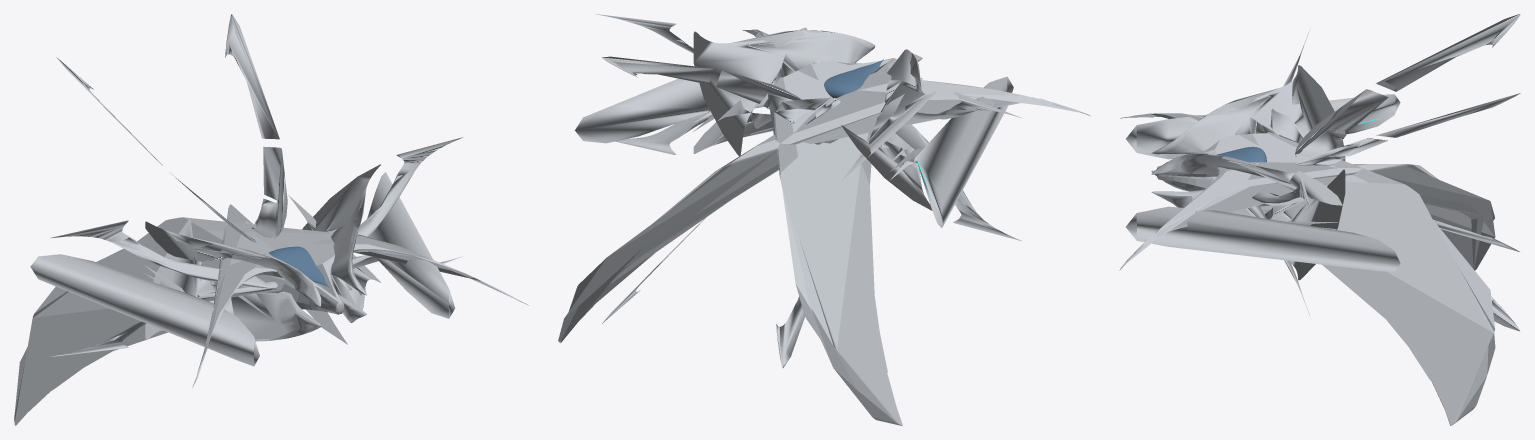
The model's file is Enemy010.glb.
The picture shows the model from 3 angles, left to right: view 1: azimuth 30°, elevation 25°; view 2: azimuth 150°, elevation 25°; view 3: azimuth 270°, elevation 25°; orthographic projection. The views are drawn at different scales.
Visible parts, largest first — view 1: assembly_fuselage, assembly_enginepod0_r, assembly_wing_r, assembly_subwing_r, assembly_tail_r, assembly_canopy; view 2: assembly_fuselage, assembly_wing_r, assembly_enginepod0_r, assembly_tail_r, assembly_subwing_r, assembly_canopy; view 3: assembly_fuselage, assembly_wing_r, assembly_enginepod0_r, assembly_tail_r, assembly_subwing_r, assembly_canopy.
Boxes of the visible parts, box(x1,y1,x2,y2) form: assembly_fuselage: box(14, 204, 528, 425); assembly_enginepod0_r: box(30, 172, 455, 366); assembly_wing_r: box(145, 164, 380, 341); assembly_subwing_r: box(51, 137, 462, 356); assembly_tail_r: box(56, 14, 287, 242); assembly_canopy: box(269, 246, 329, 287); assembly_fuselage: box(558, 29, 1090, 425); assembly_wing_r: box(693, 30, 936, 210); assembly_enginepod0_r: box(575, 27, 1013, 227); assembly_tail_r: box(601, 56, 840, 368); assembly_subwing_r: box(596, 14, 1021, 241); assembly_canopy: box(824, 59, 883, 98); assembly_fuselage: box(1119, 113, 1495, 425); assembly_wing_r: box(1151, 65, 1345, 280); assembly_enginepod0_r: box(1126, 94, 1400, 271); assembly_tail_r: box(1295, 14, 1520, 331); assembly_subwing_r: box(1246, 28, 1311, 315); assembly_canopy: box(1217, 146, 1266, 162).
Size of the model in its own units: 7.7 by 5.74 by 7.02.
